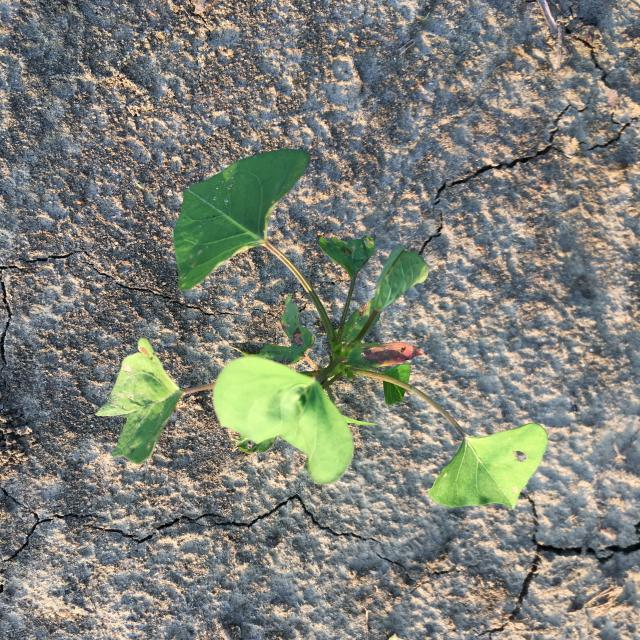MorningGlory: (94, 148, 549, 511)
